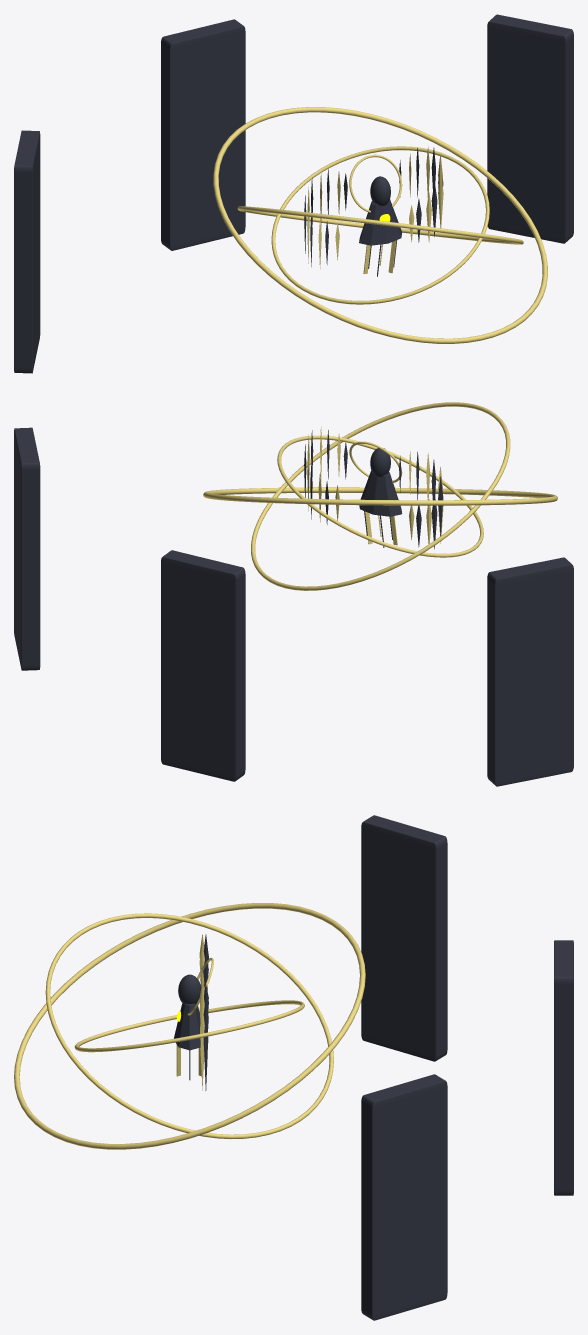
Rendered from eclipse_sanctuary.glb.
3 views of the same model, one above another, from view 1: azimuth 30°, elevation 25°; view 2: azimuth 150°, elevation 25°; view 3: azimuth 270°, elevation 25° (orthographic). The views are drawn at different scales.
Parts seen in each view (by area): view 1: Monolith_Portal_03, Monolith_Portal_02, Monolith_Portal_01, Sanctuary_Astrolabe_Outer, Sanctuary_Astrolabe_Inner, Sanctuary_Astrolabe_Mid, Char_Torso_Armor, Char_Head_Crown; view 2: Monolith_Portal_01, Monolith_Portal_02, Monolith_Portal_03, Sanctuary_Astrolabe_Outer, Sanctuary_Astrolabe_Mid, Sanctuary_Astrolabe_Inner, Char_Torso_Armor; view 3: Monolith_Portal_03, Monolith_Portal_01, Sanctuary_Astrolabe_Outer, Monolith_Portal_02, Sanctuary_Astrolabe_Mid, Sanctuary_Astrolabe_Inner, Char_Torso_Armor.
Boxes of the visible parts, left/top/right/bottom form: Monolith_Portal_03: left=487, top=14, right=573, bottom=243; Monolith_Portal_02: left=161, top=19, right=245, bottom=250; Monolith_Portal_01: left=14, top=130, right=40, bottom=373; Sanctuary_Astrolabe_Outer: left=213, top=107, right=547, bottom=343; Sanctuary_Astrolabe_Inner: left=271, top=146, right=489, bottom=304; Sanctuary_Astrolabe_Mid: left=237, top=206, right=523, bottom=244; Char_Torso_Armor: left=359, top=199, right=402, bottom=245; Char_Head_Crown: left=370, top=176, right=390, bottom=205; Monolith_Portal_01: left=487, top=557, right=573, bottom=786; Monolith_Portal_02: left=161, top=550, right=245, bottom=781; Monolith_Portal_03: left=14, top=427, right=40, bottom=670; Sanctuary_Astrolabe_Outer: left=203, top=487, right=557, bottom=505; Sanctuary_Astrolabe_Mid: left=251, top=402, right=510, bottom=590; Sanctuary_Astrolabe_Inner: left=277, top=435, right=483, bottom=557; Char_Torso_Armor: left=359, top=470, right=402, bottom=516; Monolith_Portal_03: left=361, top=1074, right=447, bottom=1320; Monolith_Portal_01: left=361, top=815, right=447, bottom=1061; Sanctuary_Astrolabe_Outer: left=14, top=903, right=365, bottom=1149; Monolith_Portal_02: left=554, top=940, right=573, bottom=1195; Sanctuary_Astrolabe_Mid: left=45, top=913, right=333, bottom=1139; Sanctuary_Astrolabe_Inner: left=74, top=1000, right=304, bottom=1052; Char_Torso_Armor: left=174, top=1003, right=200, bottom=1050.
Size of the model in its own units: 11.84 by 4.2 by 9.73.
